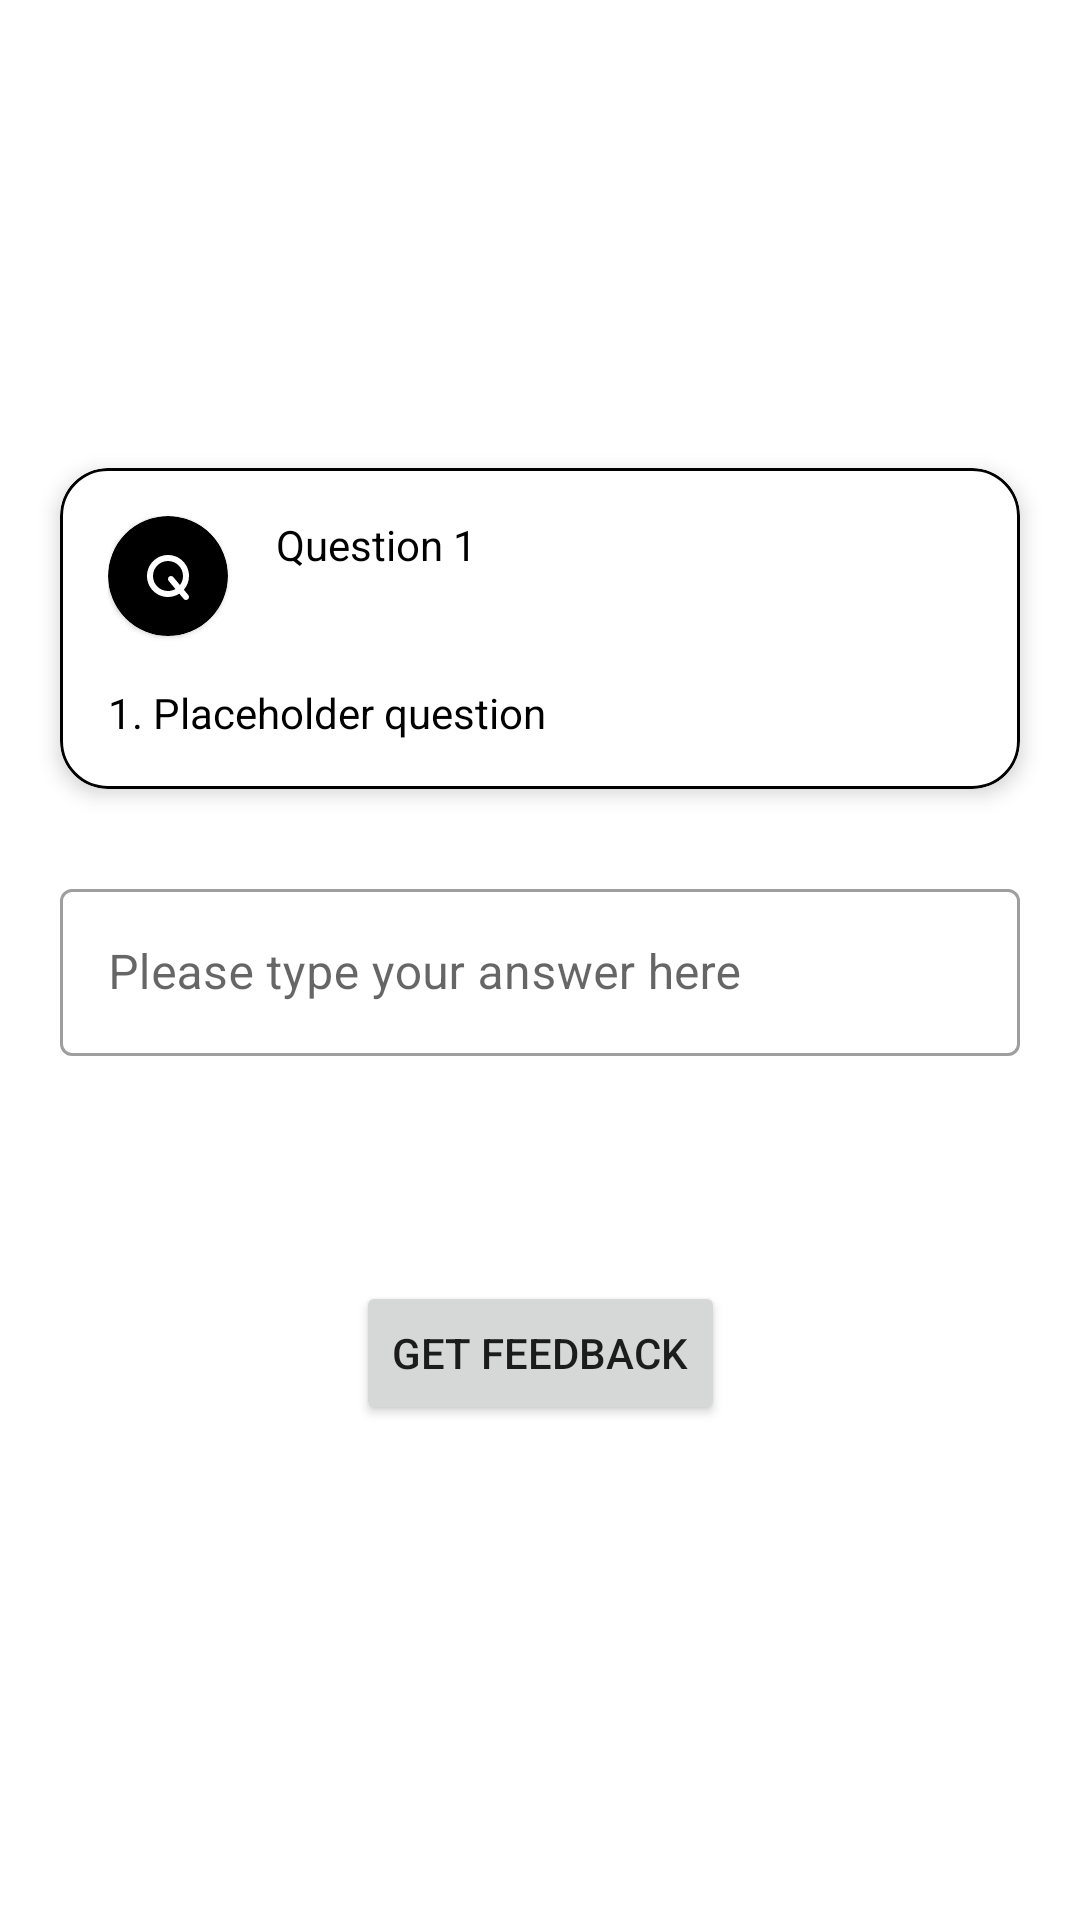

Named icons in this screenshot (1080 x 1920) and their bounding boxes, (x1, y1, x2, y2):
letter: (147, 555, 189, 600)
